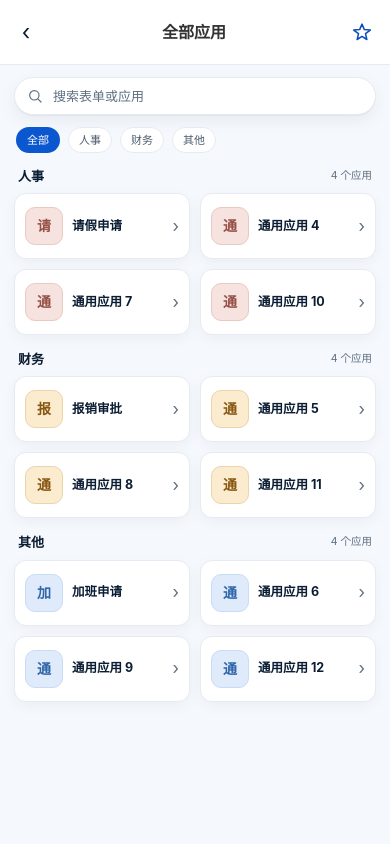
it: AppCatalogPage › renders category tabs and filters by selected category
Expected: the text "请假申请" is shown, [72,218,122,233]
Click the button "财务" at (142, 140), box [120,127,164,153]
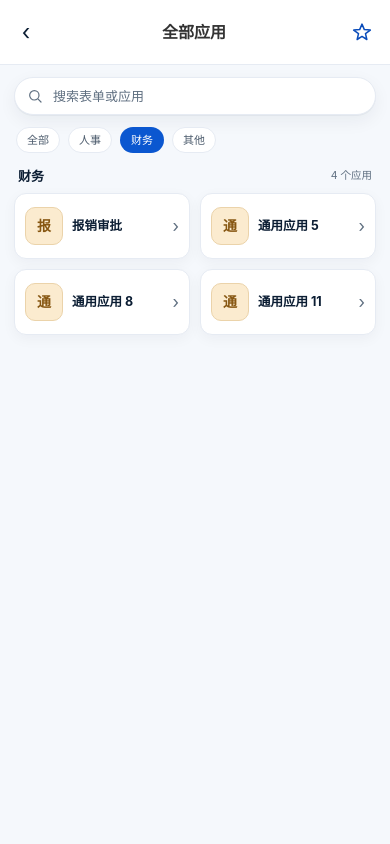
Expected: the text "报销审批" is shown, [72,218,122,233]
Expected: the button "请假申请" is gone
